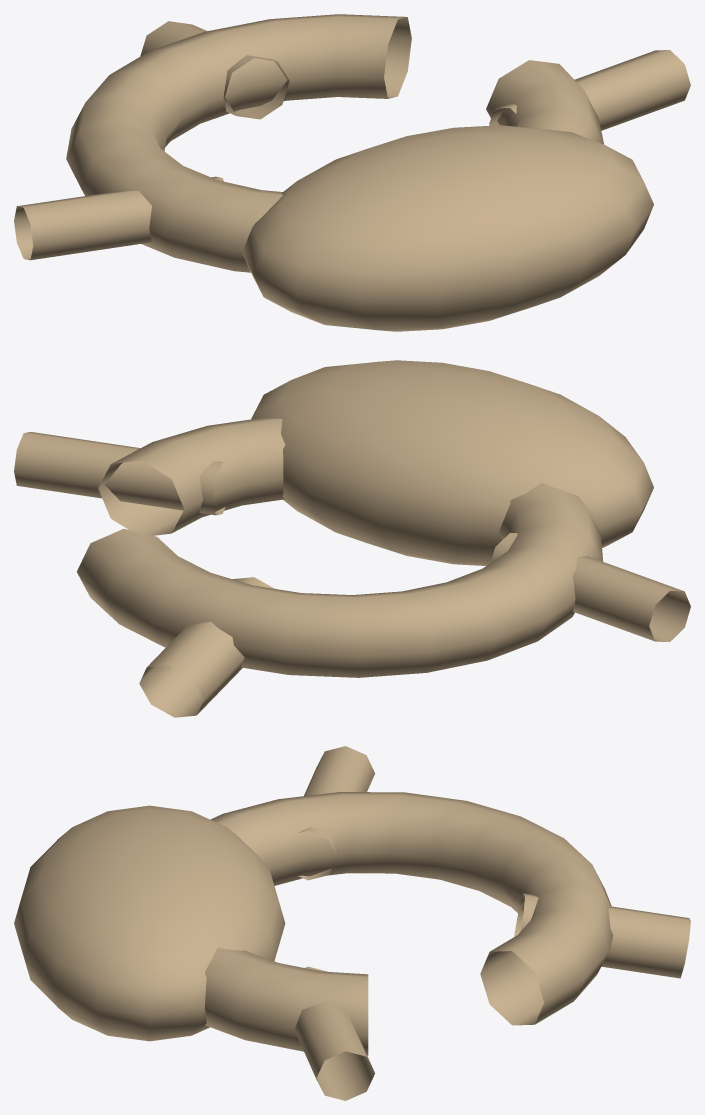
3 renders of one model, top to bottom at view 1: azimuth 30°, elevation 25°; view 2: azimuth 150°, elevation 25°; view 3: azimuth 270°, elevation 25°, orthographic. The views are drawn at different scales.
Parts seen in each view (by area): view 1: t12:centrum, t12:neural-arch, t12:transverse--1, t12:transverse-1, t12:spinous-process; view 2: t12:neural-arch, t12:centrum, t12:transverse-1, t12:transverse--1, t12:spinous-process; view 3: t12:neural-arch, t12:centrum, t12:spinous-process, t12:transverse-1, t12:transverse--1.
Part boxes in pixels (x1,y1,x2,y2): t12:centrum: (242,125,653,331); t12:neural-arch: (66,14,603,272); t12:transverse--1: (14,176,223,260); t12:transverse-1: (489,50,690,130); t12:spinous-process: (140,21,289,119); t12:neural-arch: (77,418,602,677); t12:centrum: (251,360,653,565); t12:transverse-1: (14,432,225,515); t12:transverse--1: (490,532,690,642); t12:spinous-process: (139,577,274,717); t12:neural-arch: (205,792,613,1055); t12:centrum: (14,805,285,1041); t12:spinous-process: (514,893,690,978); t12:transverse-1: (294,966,374,1100); t12:transverse--1: (298,746,374,880).
Bounding box in the file's own units: 0.247 × 0.0553 × 0.2275.
